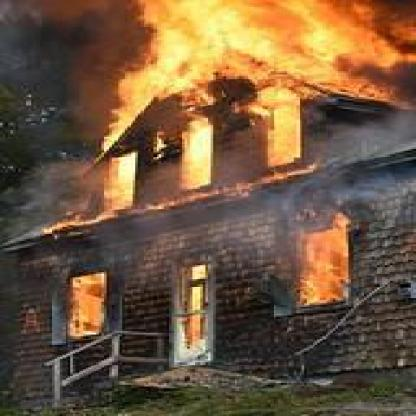fire: (26, 1, 408, 209), (282, 218, 374, 310), (161, 252, 215, 362), (61, 264, 117, 339)
